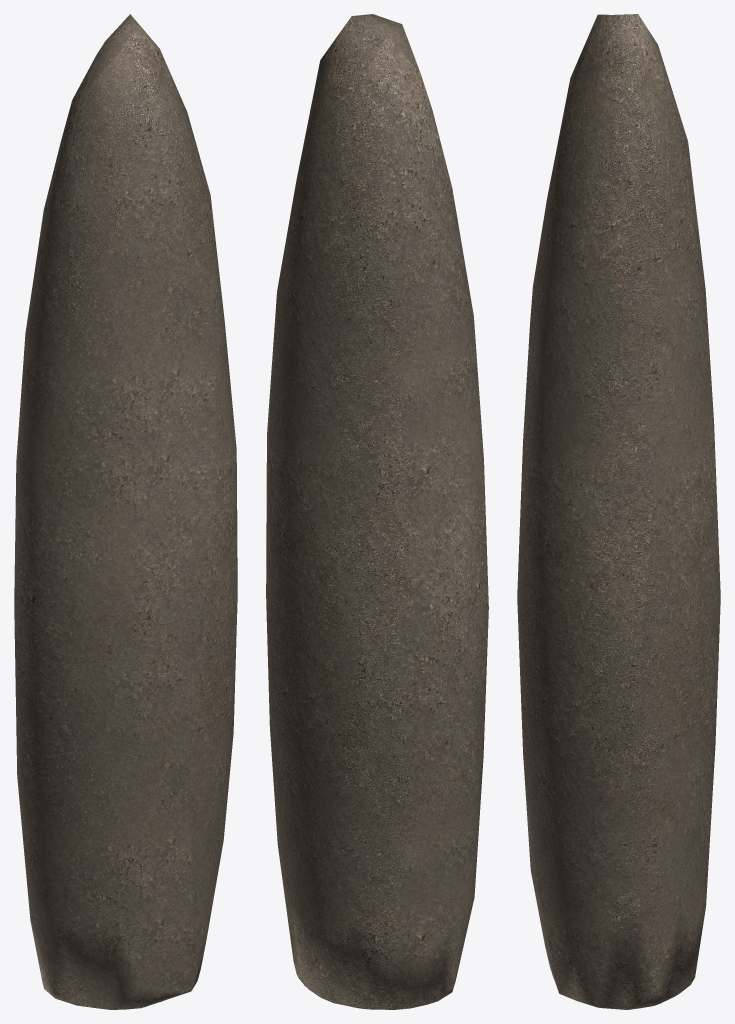
Rendered from standing_stone_03.glb.
3 renders of one model, left to right at view 1: azimuth 30°, elevation 25°; view 2: azimuth 150°, elevation 25°; view 3: azimuth 270°, elevation 25°, orthographic.
Visible parts, largest first — view 1: standing_stone_03; view 2: standing_stone_03; view 3: standing_stone_03.
Boxes of the visible parts, x1,y1,x2,y2 form: standing_stone_03: (14, 14, 237, 1009); standing_stone_03: (266, 14, 488, 1009); standing_stone_03: (517, 14, 720, 1009).
Size of the model in its own units: 0.8407 by 3.88 by 0.7381.
Materials: 1 (1 with a texture image).
